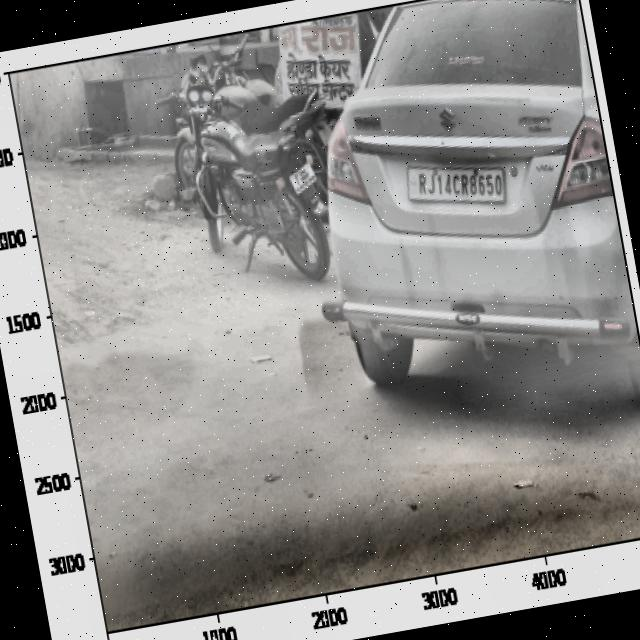license_plate: (410, 152, 509, 218)
